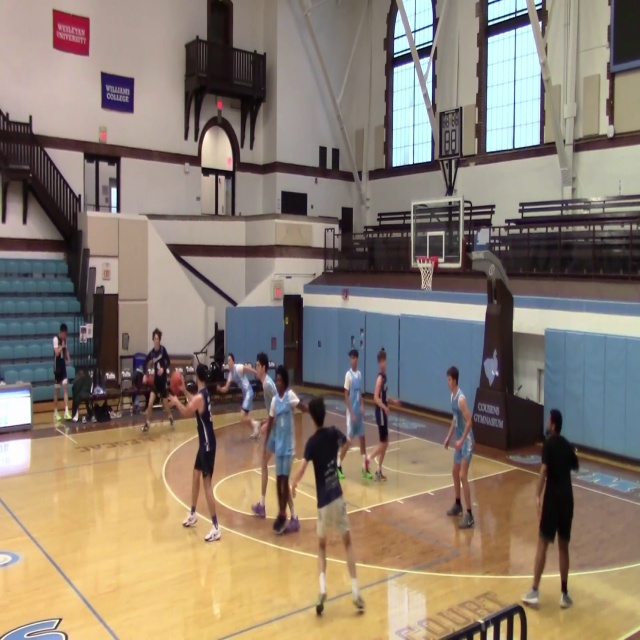Basketball: (169, 371, 184, 396)
